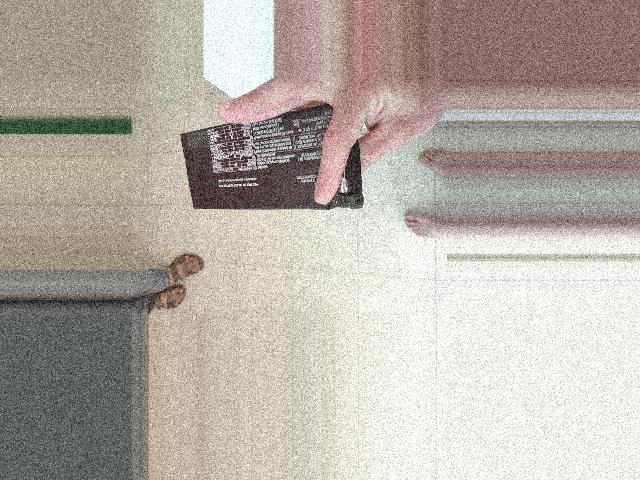chocolate: (231, 123, 335, 314)
